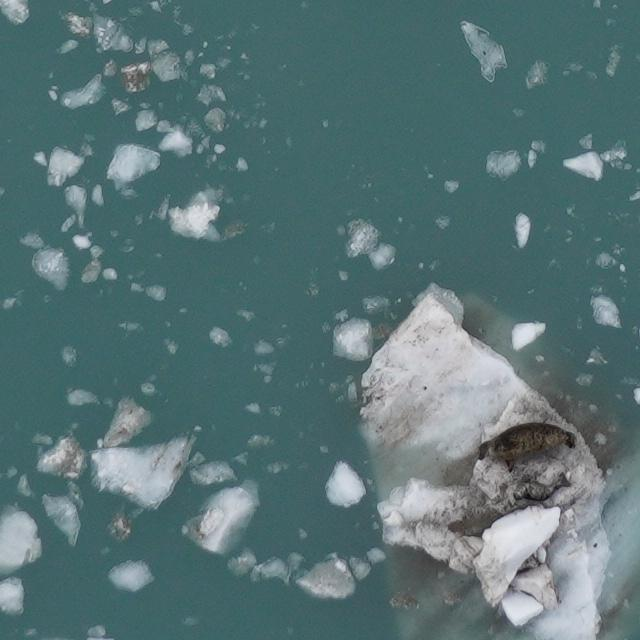seal: (470, 421, 582, 473)
